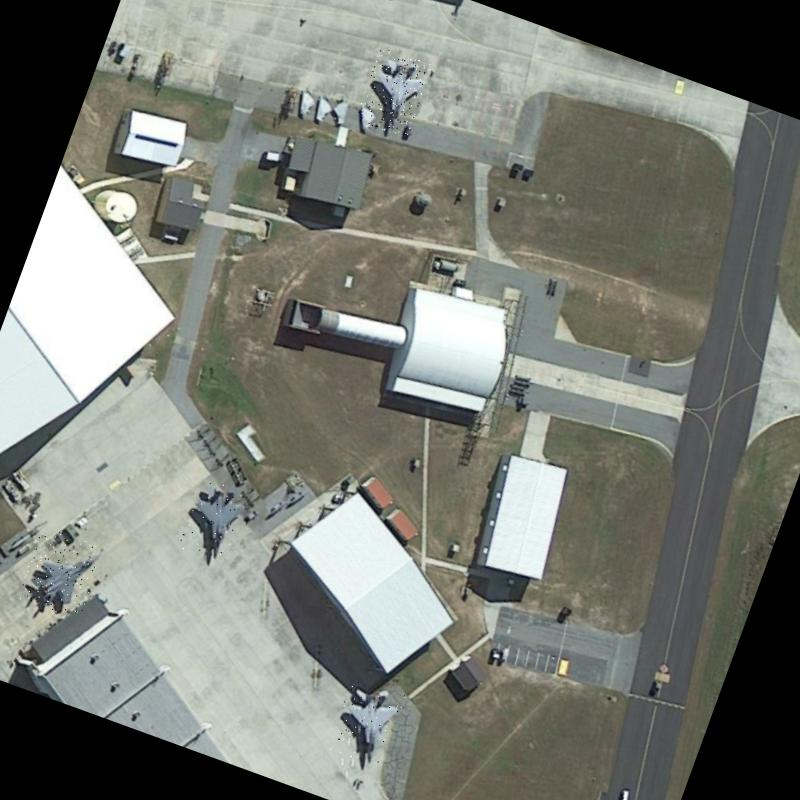A13: (16, 525, 105, 621), (326, 676, 405, 768), (354, 46, 432, 138), (176, 474, 252, 564)
